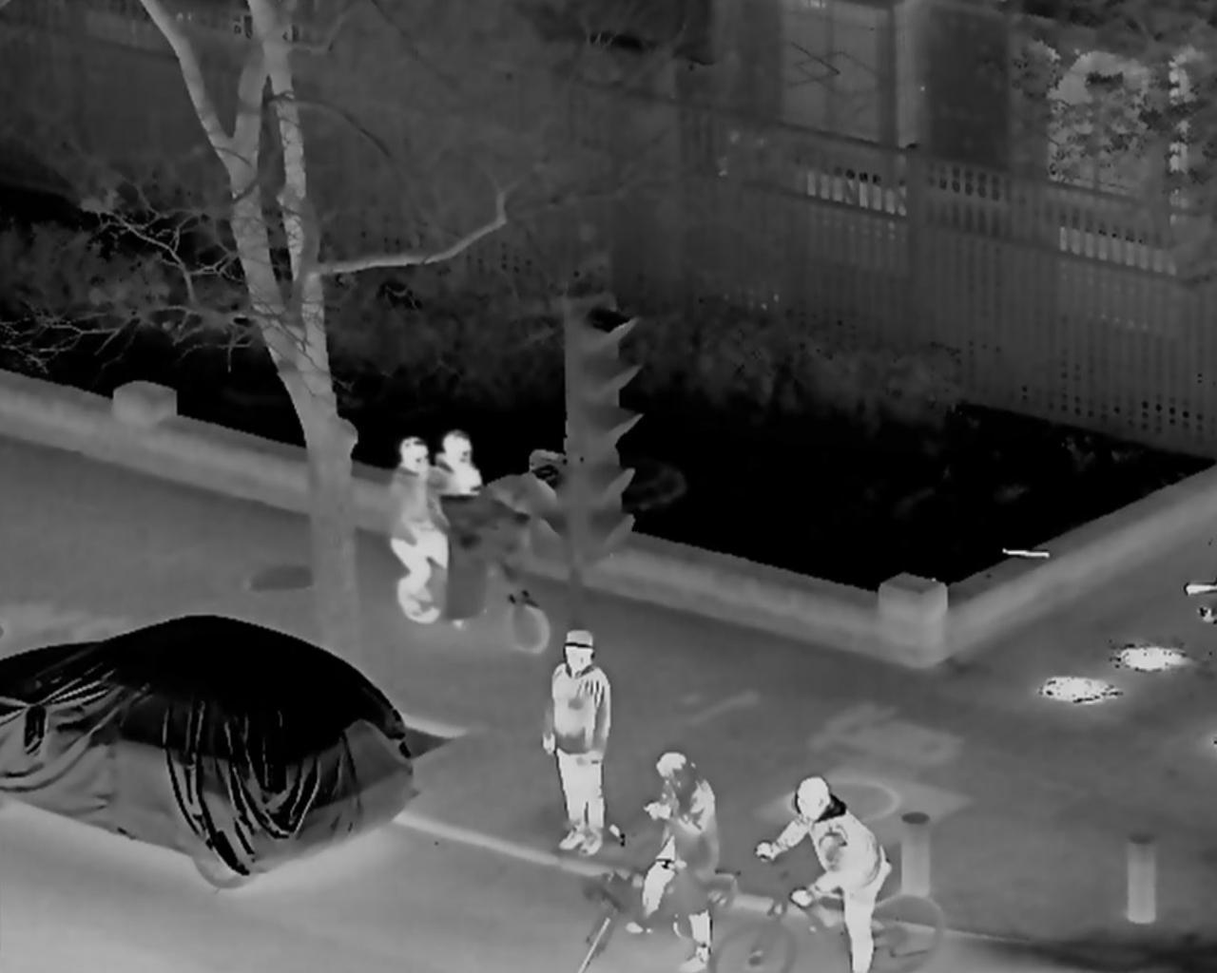person: (760, 779, 889, 973), (629, 755, 722, 972), (545, 626, 617, 858), (427, 429, 503, 623), (383, 436, 460, 619)
